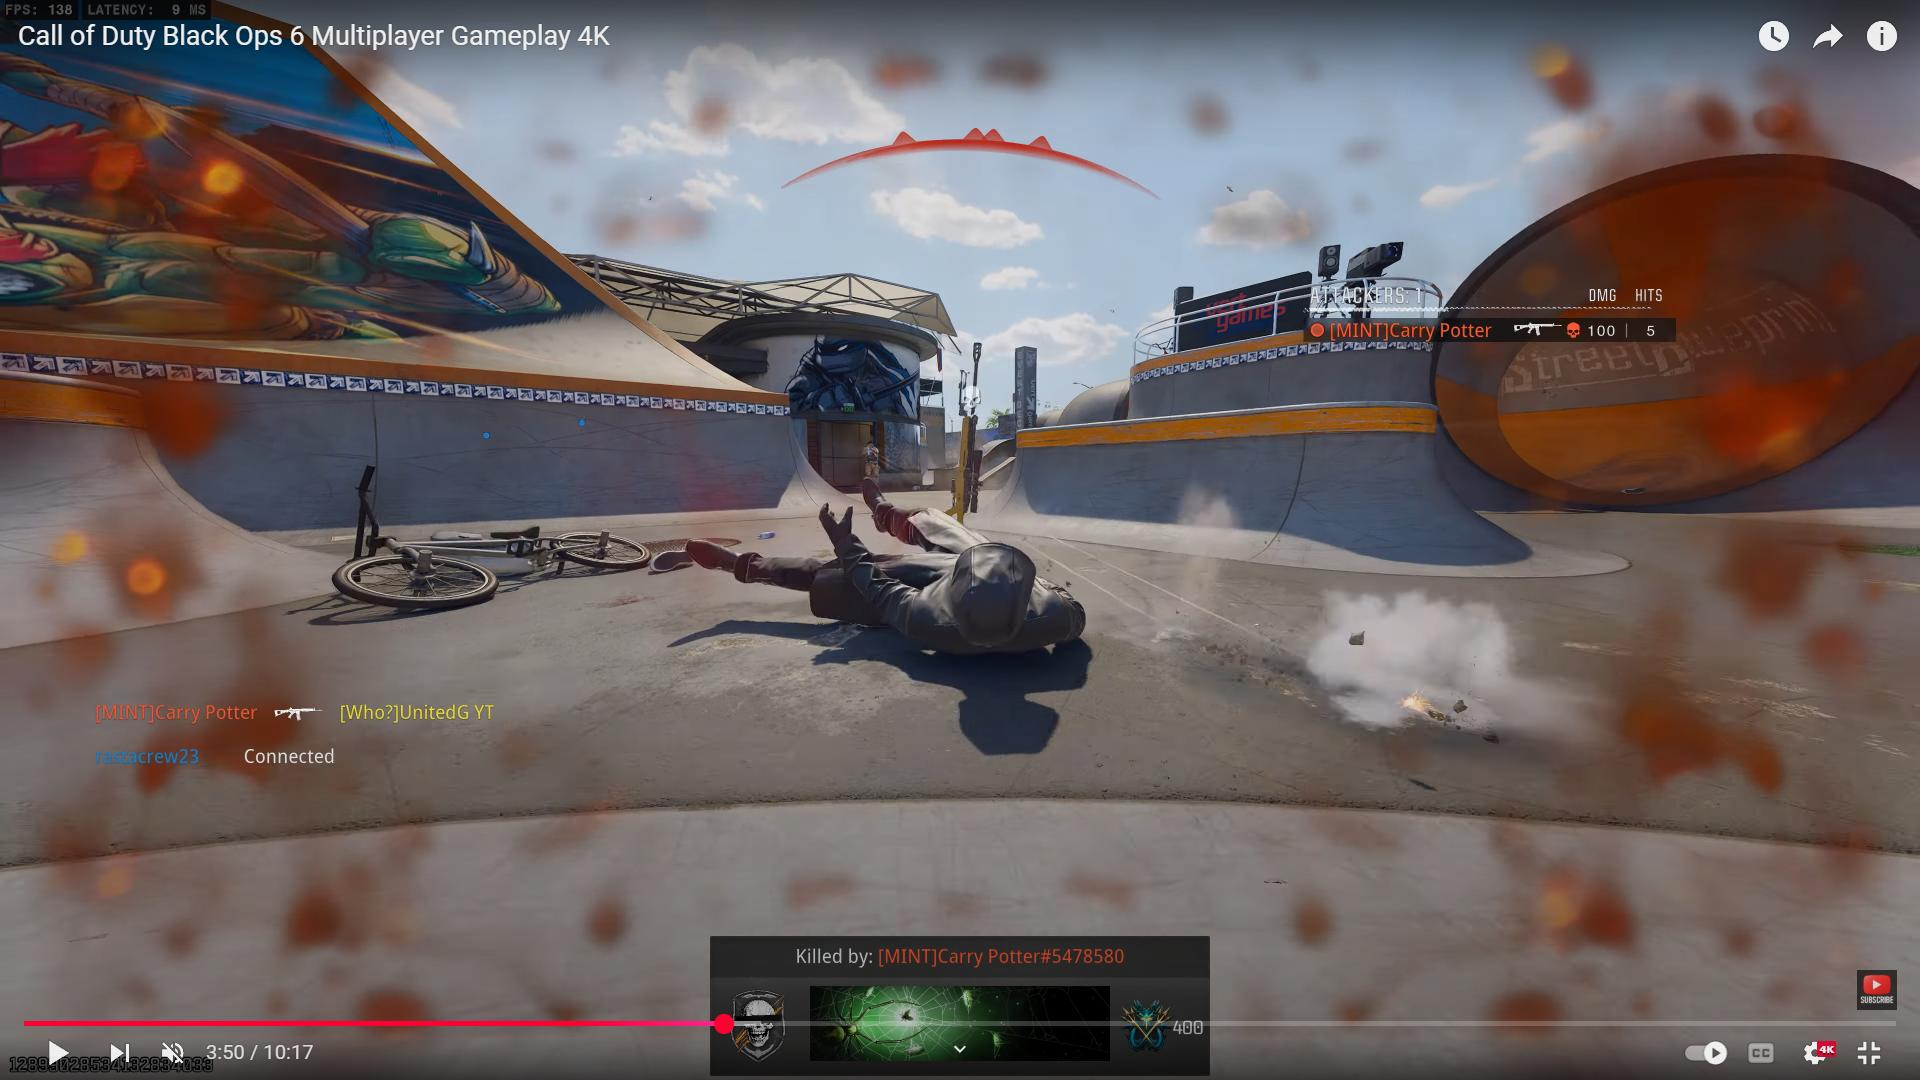Enemy: (858, 430, 887, 481)
